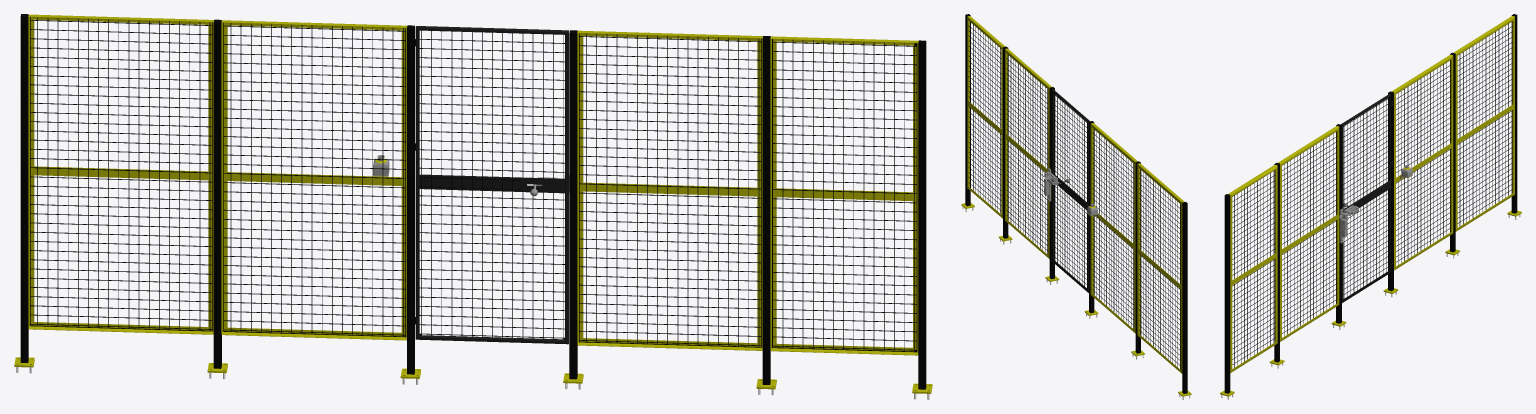
Rendered from iron wall_01.FBX.
3 views of the same model, side by side, from view 1: azimuth 30°, elevation 25°; view 2: azimuth 150°, elevation 25°; view 3: azimuth 270°, elevation 25° (orthographic). The views are drawn at different scales.
Visible parts, largest first — view 1: VMS_Base_2; view 2: VMS_Base_2; view 3: VMS_Base_2.
Boxes of the visible parts, box(x1,y1,x2,y2) form: VMS_Base_2: box(14, 14, 932, 399); VMS_Base_2: box(961, 14, 1191, 399); VMS_Base_2: box(1220, 14, 1521, 399).
Size of the model in its own units: 287 by 196 by 145.
